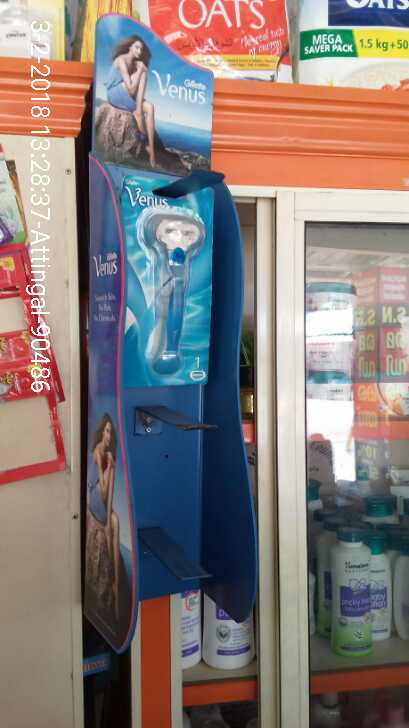venus: (122, 178, 218, 388)
